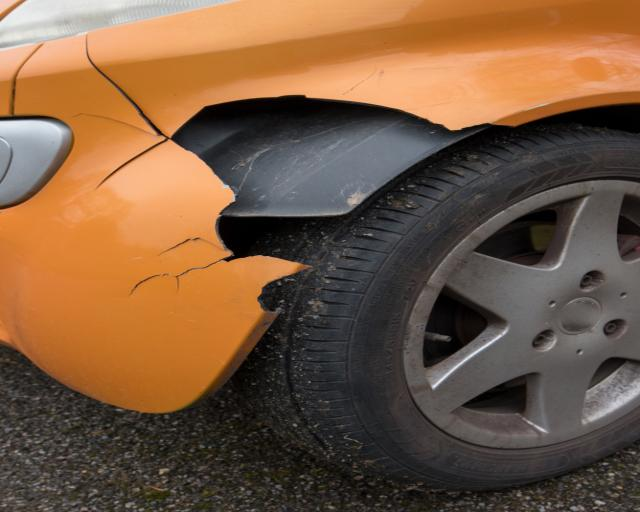crack: (68, 33, 170, 191), (125, 237, 242, 299), (342, 64, 378, 95)
